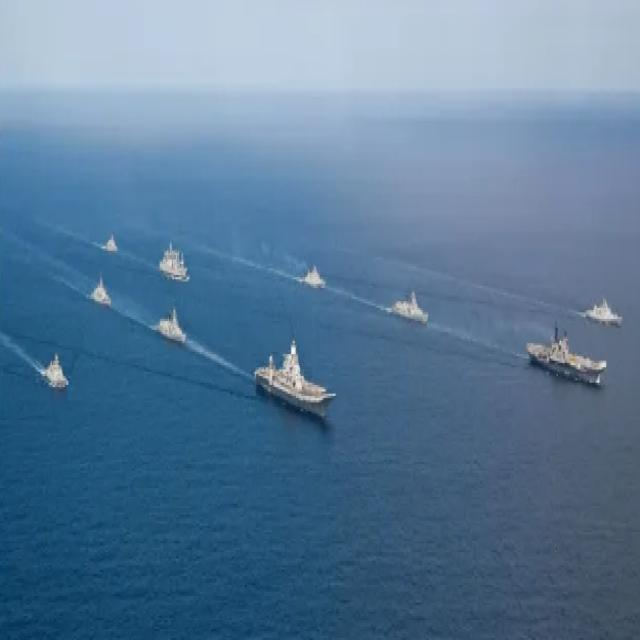navalvessels: (252, 322, 336, 426), (522, 316, 610, 398), (389, 275, 428, 328), (38, 330, 68, 392), (154, 307, 188, 350), (589, 289, 622, 326), (85, 268, 112, 310), (160, 245, 189, 283), (299, 257, 324, 290), (100, 224, 119, 258)
